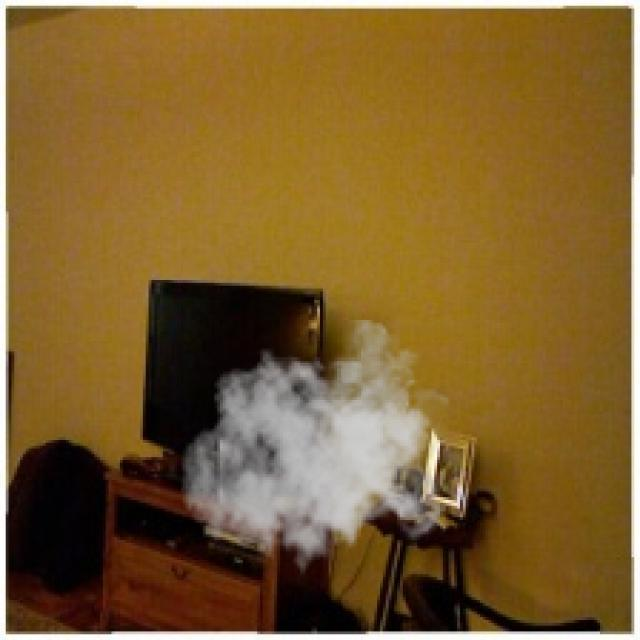Smoke: (180, 320, 449, 586)
